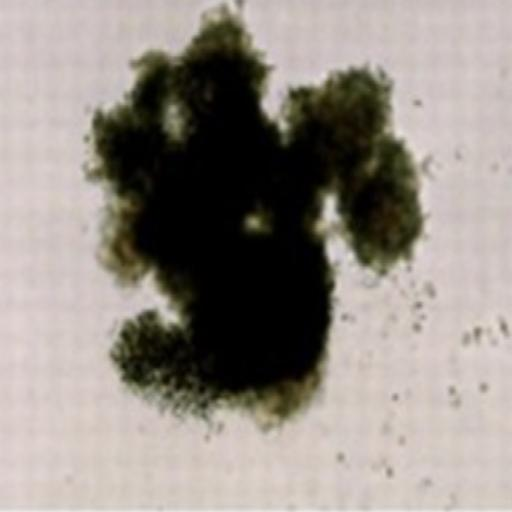BFU-E: (90, 13, 420, 415)
